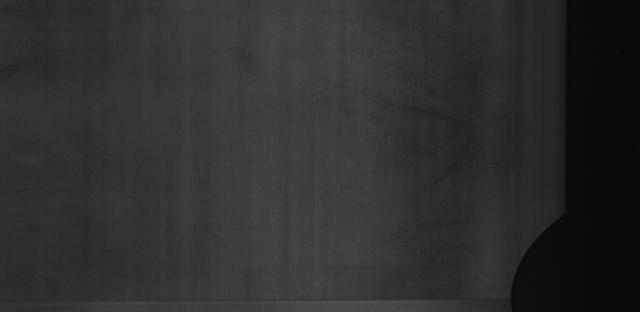crescent_gap: (497, 186, 574, 312)
welding_line: (0, 292, 524, 309)
